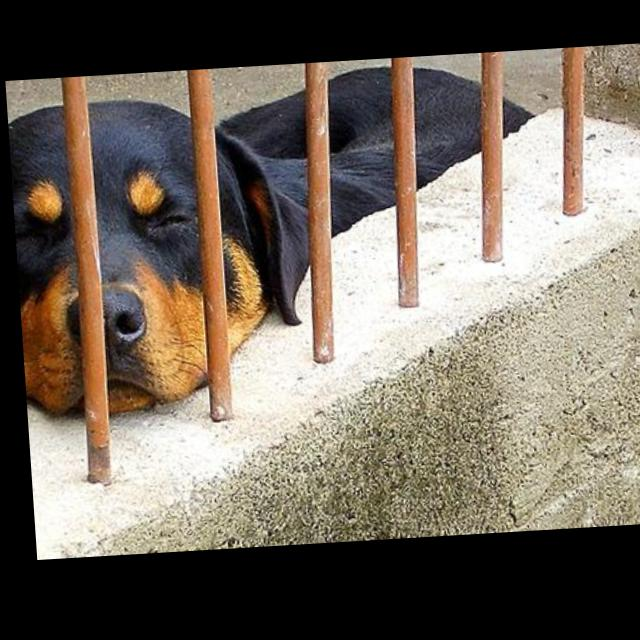rottweiler: (6, 63, 551, 423)
